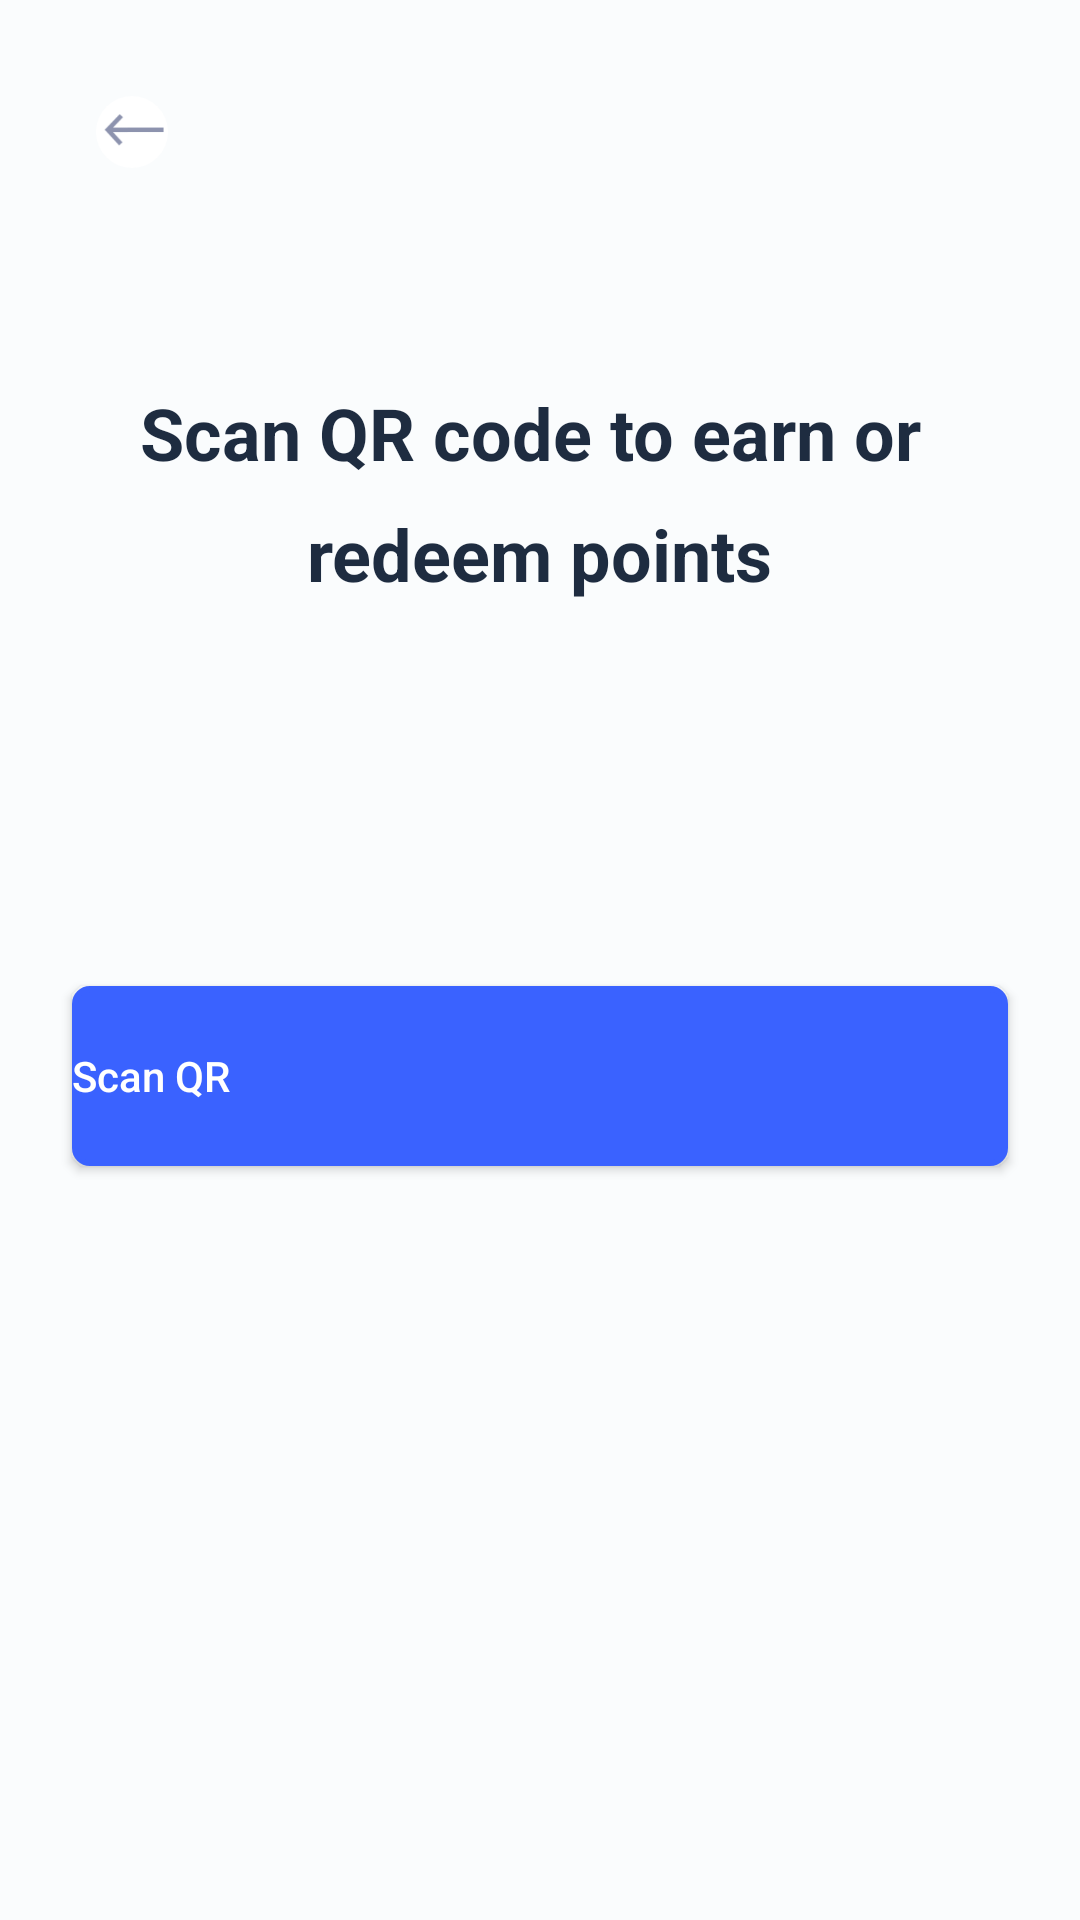

Named icons in this screenshot (1080*1920) and their bounding boxes, [x1=x1, y1=y1, x2=x2, y2=y2]:
back arrow: [x1=105, y1=114, x2=164, y2=145]
